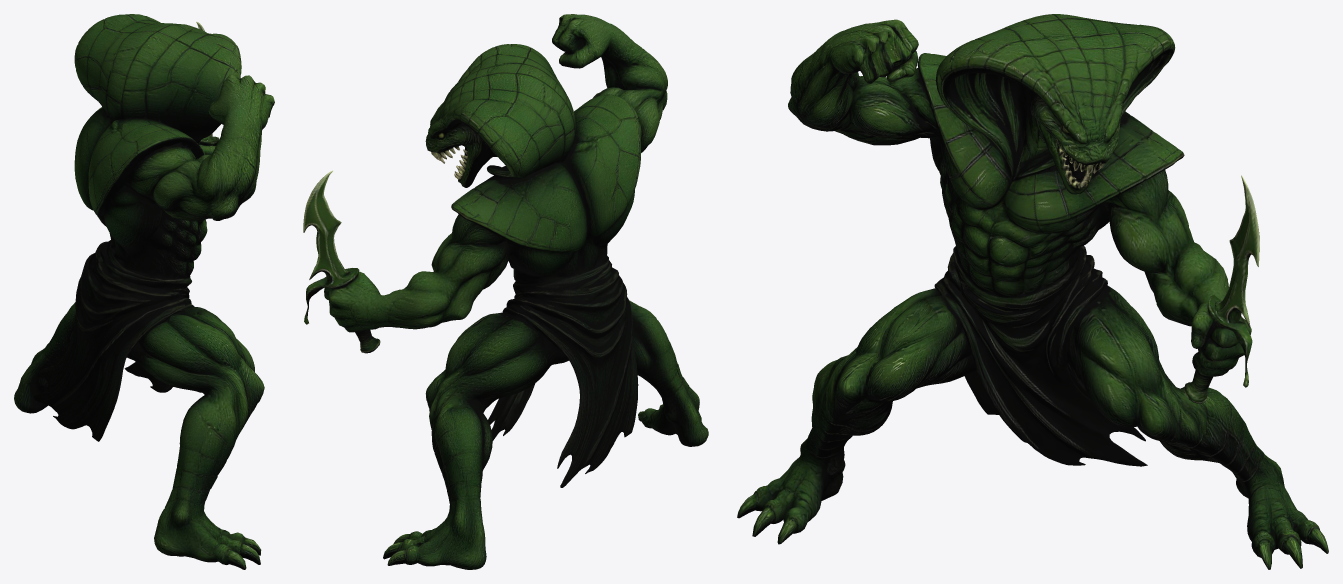
The model's file is venomfang3d.glb.
3 views of the same model, side by side, from view 1: azimuth 30°, elevation 25°; view 2: azimuth 150°, elevation 25°; view 3: azimuth 270°, elevation 25° (orthographic). The views are drawn at different scales.
Parts seen in each view (by area): view 1: tripo_node_aa3fc081-41aa-4c1e-bf4d-7a5386266425; view 2: tripo_node_aa3fc081-41aa-4c1e-bf4d-7a5386266425; view 3: tripo_node_aa3fc081-41aa-4c1e-bf4d-7a5386266425.
Boxes of the visible parts, x1=… form: tripo_node_aa3fc081-41aa-4c1e-bf4d-7a5386266425: x1=14, y1=14, x2=274, y2=569; tripo_node_aa3fc081-41aa-4c1e-bf4d-7a5386266425: x1=303, y1=14, x2=708, y2=569; tripo_node_aa3fc081-41aa-4c1e-bf4d-7a5386266425: x1=737, y1=14, x2=1328, y2=569.
Size of the model in its own units: 0.5659 by 1 by 0.9997.
1 material, 1 textured.
